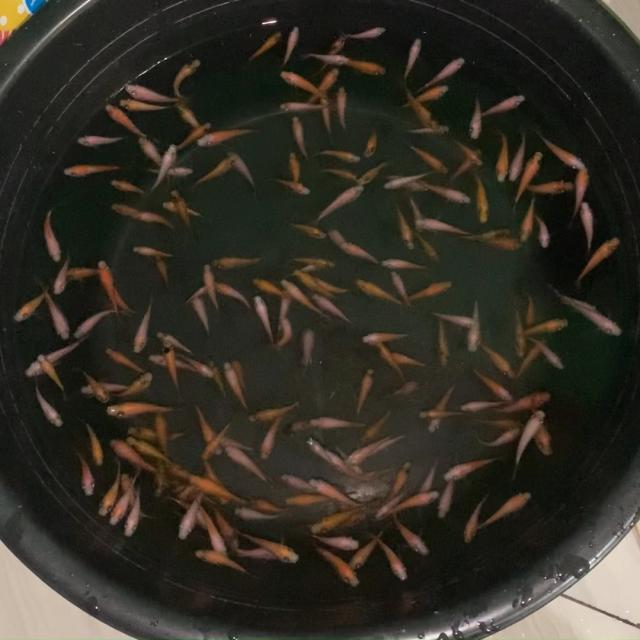nila: (24, 336, 88, 382), (474, 489, 535, 534), (511, 408, 549, 477), (238, 527, 298, 570), (313, 542, 362, 590), (577, 233, 622, 284), (222, 444, 274, 488), (366, 533, 410, 585), (536, 128, 588, 170), (281, 274, 332, 316), (346, 524, 388, 574), (570, 302, 626, 339), (40, 282, 72, 343), (511, 150, 543, 211), (315, 184, 365, 222), (109, 434, 158, 472), (195, 548, 257, 578), (187, 473, 244, 505), (108, 471, 141, 526), (416, 54, 466, 90), (100, 396, 180, 418), (400, 84, 439, 129), (310, 502, 360, 537), (461, 488, 491, 546), (444, 455, 501, 485), (36, 352, 70, 402), (169, 187, 199, 242), (122, 472, 156, 520), (280, 68, 330, 100), (190, 154, 240, 186), (478, 340, 518, 380), (516, 335, 550, 382), (381, 489, 438, 517), (474, 368, 516, 406), (74, 306, 122, 339), (138, 136, 174, 180), (98, 461, 126, 517), (406, 140, 452, 174), (392, 518, 430, 558), (128, 431, 174, 464), (169, 494, 211, 530), (346, 432, 388, 468), (131, 294, 156, 354), (355, 277, 405, 307), (13, 285, 50, 325), (309, 36, 346, 76), (293, 266, 339, 298), (398, 84, 450, 112), (304, 65, 342, 103), (122, 82, 187, 104), (105, 346, 151, 377), (568, 164, 590, 228), (192, 406, 220, 456), (105, 102, 146, 136), (96, 258, 118, 321), (42, 200, 64, 263), (227, 148, 260, 190), (196, 126, 259, 148), (493, 390, 556, 412), (34, 384, 64, 430), (313, 290, 353, 324), (506, 132, 532, 184), (151, 144, 178, 194), (212, 506, 240, 554), (274, 283, 296, 344), (224, 361, 249, 414), (251, 294, 276, 346), (430, 384, 456, 434), (552, 286, 598, 314), (201, 420, 232, 461), (178, 495, 205, 542), (203, 462, 230, 509), (528, 336, 566, 369), (454, 225, 516, 245), (256, 416, 284, 460), (160, 200, 216, 222), (362, 406, 397, 441), (450, 146, 484, 182), (121, 490, 145, 540), (72, 448, 96, 498), (130, 209, 178, 234), (427, 181, 475, 206), (382, 168, 428, 194), (304, 436, 339, 470), (250, 398, 304, 420), (246, 30, 282, 63), (451, 132, 483, 169), (517, 178, 576, 198), (163, 338, 184, 394), (405, 279, 454, 303), (282, 490, 347, 508), (189, 292, 214, 338), (174, 350, 212, 380), (58, 161, 125, 178), (200, 511, 224, 558), (434, 477, 459, 522), (174, 57, 202, 97), (416, 218, 472, 238), (434, 310, 452, 372), (399, 36, 422, 84), (214, 281, 252, 310), (394, 201, 416, 251), (355, 367, 377, 417), (307, 530, 364, 549), (109, 281, 139, 317), (310, 512, 370, 530), (387, 457, 414, 497), (412, 228, 442, 264), (174, 100, 203, 137), (521, 317, 572, 338), (356, 158, 394, 186), (175, 122, 213, 150), (471, 172, 491, 225), (146, 352, 194, 374), (478, 428, 522, 452), (156, 330, 198, 355), (75, 130, 127, 150), (324, 448, 354, 482), (318, 91, 338, 142), (313, 146, 364, 166), (384, 348, 428, 371), (84, 417, 105, 465), (384, 377, 424, 402), (201, 260, 219, 315), (282, 414, 320, 440), (293, 114, 314, 161), (428, 309, 477, 329), (115, 372, 154, 397), (466, 300, 484, 354), (482, 92, 526, 114), (52, 250, 73, 296), (377, 342, 403, 379), (280, 23, 302, 66), (129, 427, 188, 443), (372, 432, 411, 456), (250, 275, 292, 297), (460, 398, 506, 418), (210, 253, 264, 270), (520, 196, 538, 246), (299, 326, 318, 373), (208, 358, 229, 400), (236, 544, 282, 563), (495, 133, 512, 184), (342, 58, 390, 76), (119, 97, 172, 113), (374, 492, 404, 520), (274, 310, 294, 352), (232, 504, 278, 522), (83, 371, 108, 404), (387, 172, 428, 192), (155, 407, 171, 458), (511, 309, 528, 357), (310, 416, 368, 430), (337, 446, 364, 476), (468, 88, 483, 142), (420, 455, 440, 495), (336, 84, 352, 134), (112, 178, 152, 198), (391, 272, 412, 310), (290, 222, 326, 244), (176, 476, 208, 500), (286, 258, 324, 278), (404, 124, 458, 138), (338, 24, 391, 38), (360, 330, 413, 344), (230, 354, 250, 390), (248, 496, 288, 514), (154, 252, 172, 292), (150, 456, 166, 500), (277, 101, 334, 113), (317, 276, 353, 295), (344, 245, 378, 265), (579, 200, 592, 252), (165, 456, 192, 481), (62, 266, 110, 280), (278, 176, 310, 197), (316, 166, 358, 182), (417, 408, 465, 422), (217, 435, 254, 453), (305, 50, 349, 65), (363, 126, 383, 158), (132, 244, 174, 259), (294, 256, 339, 270), (80, 383, 132, 395), (535, 424, 553, 458), (476, 417, 526, 429), (356, 464, 389, 482), (110, 202, 143, 220), (282, 472, 314, 490), (484, 236, 520, 252), (538, 213, 552, 253), (382, 256, 427, 268), (410, 198, 426, 230), (522, 292, 538, 324), (144, 166, 195, 176), (182, 286, 210, 302), (290, 152, 302, 184), (333, 230, 344, 247)
